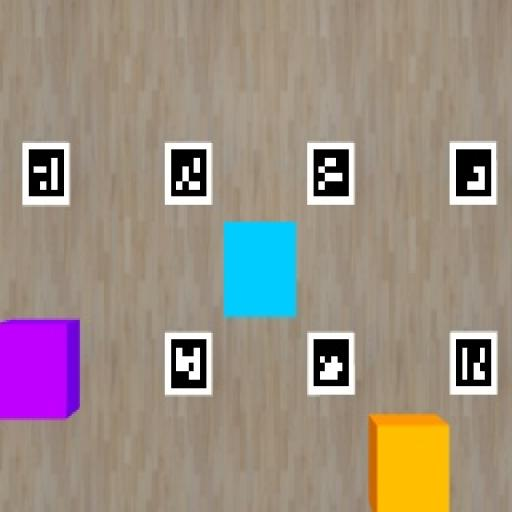car: (0, 320, 79, 420), (224, 222, 297, 317)
fire: (368, 414, 451, 511)
